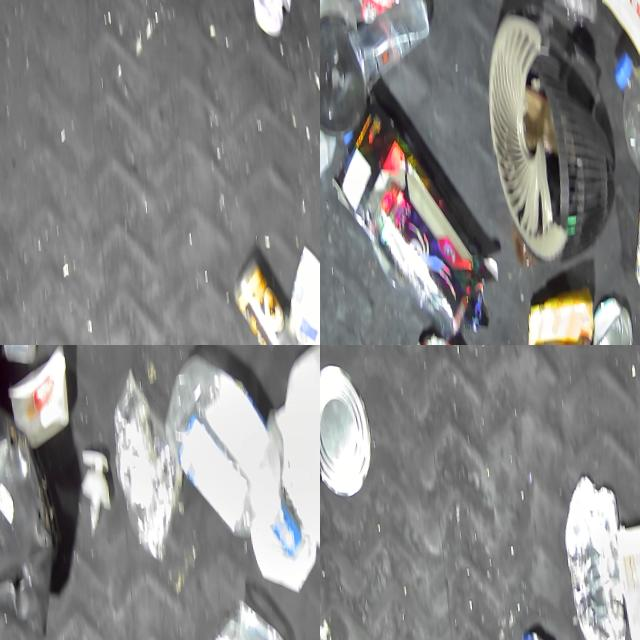can: (320, 362, 368, 497), (277, 240, 320, 345), (606, 516, 640, 640), (577, 290, 624, 345), (397, 331, 458, 345)
milk_jug: (263, 345, 320, 573)
non_white_jug: (0, 381, 63, 640)
plastic_bottle: (151, 346, 298, 560), (552, 469, 621, 640), (225, 250, 317, 345), (606, 48, 640, 247), (620, 186, 640, 309)
